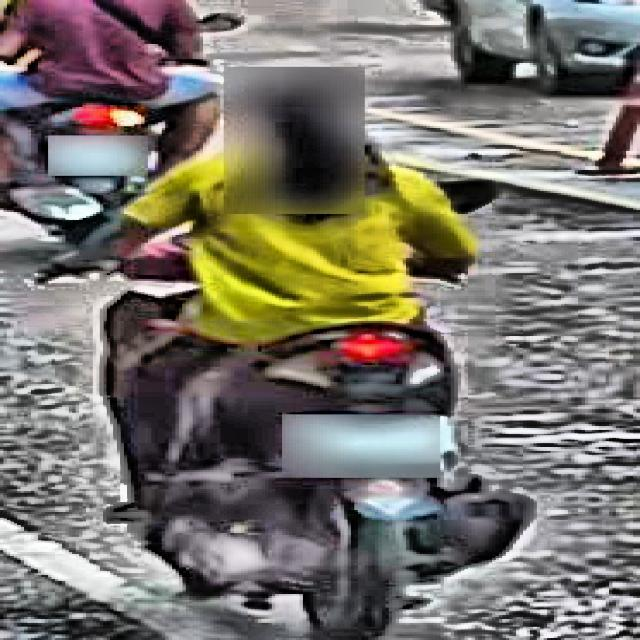motorcycle: (0, 184, 548, 631)
